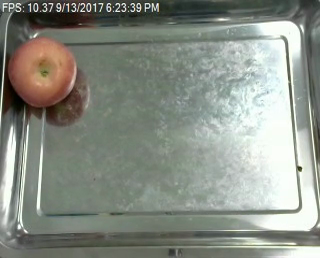Apple: (6, 35, 75, 106)
